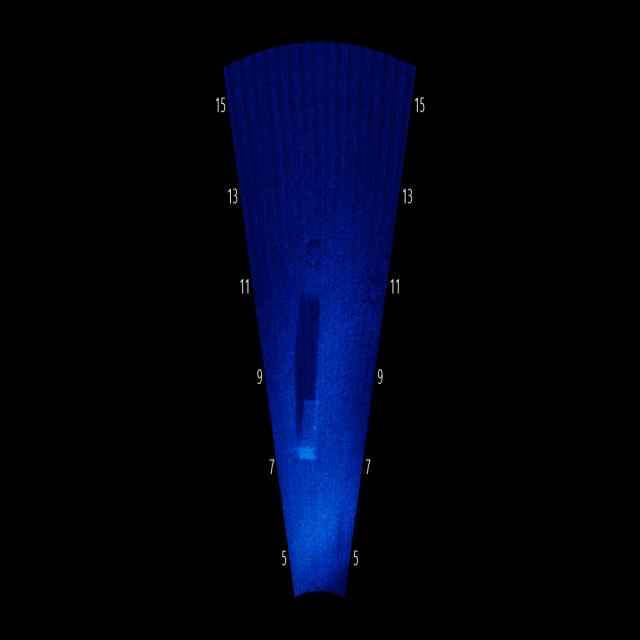square: (287, 362, 335, 476)
